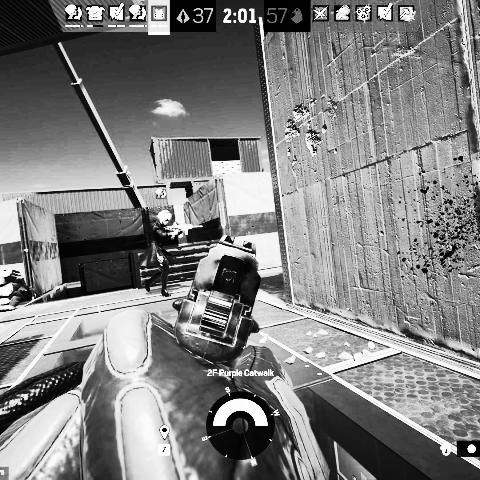Character: (140, 210, 194, 298)
Friend_label: (136, 187, 184, 210)
Head: (156, 211, 172, 226)
